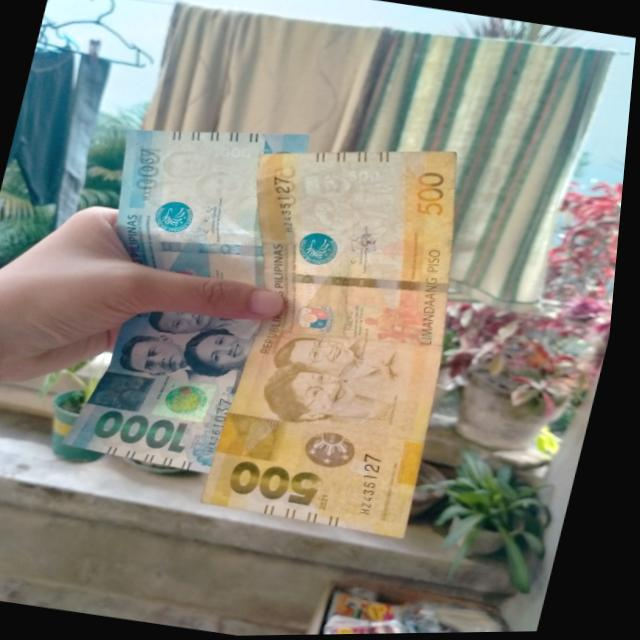concealed_value: (221, 408, 296, 461), (93, 368, 168, 413)
optically_variable_device: (292, 422, 385, 479), (157, 374, 225, 426)
security_thread: (276, 257, 464, 309), (122, 225, 274, 265)
value: (95, 401, 203, 464), (232, 454, 337, 511)
value_watermark: (348, 165, 389, 186), (213, 143, 256, 162)
watermark: (279, 162, 423, 246), (144, 144, 262, 219)
